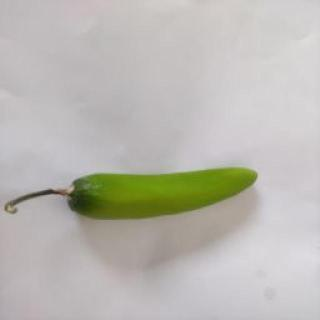Cabai Hijau: (2, 164, 267, 226)
